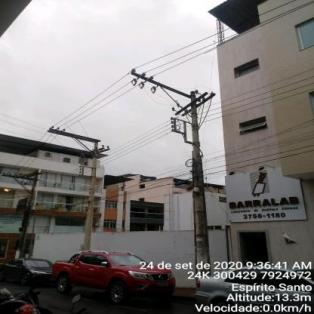Poste: (188, 88, 213, 290), (80, 136, 103, 250)
